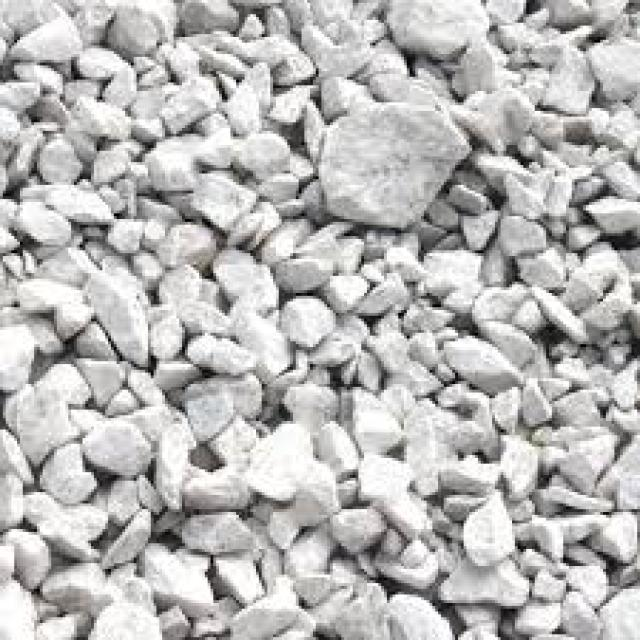Metamorphic: (6, 2, 628, 628)
